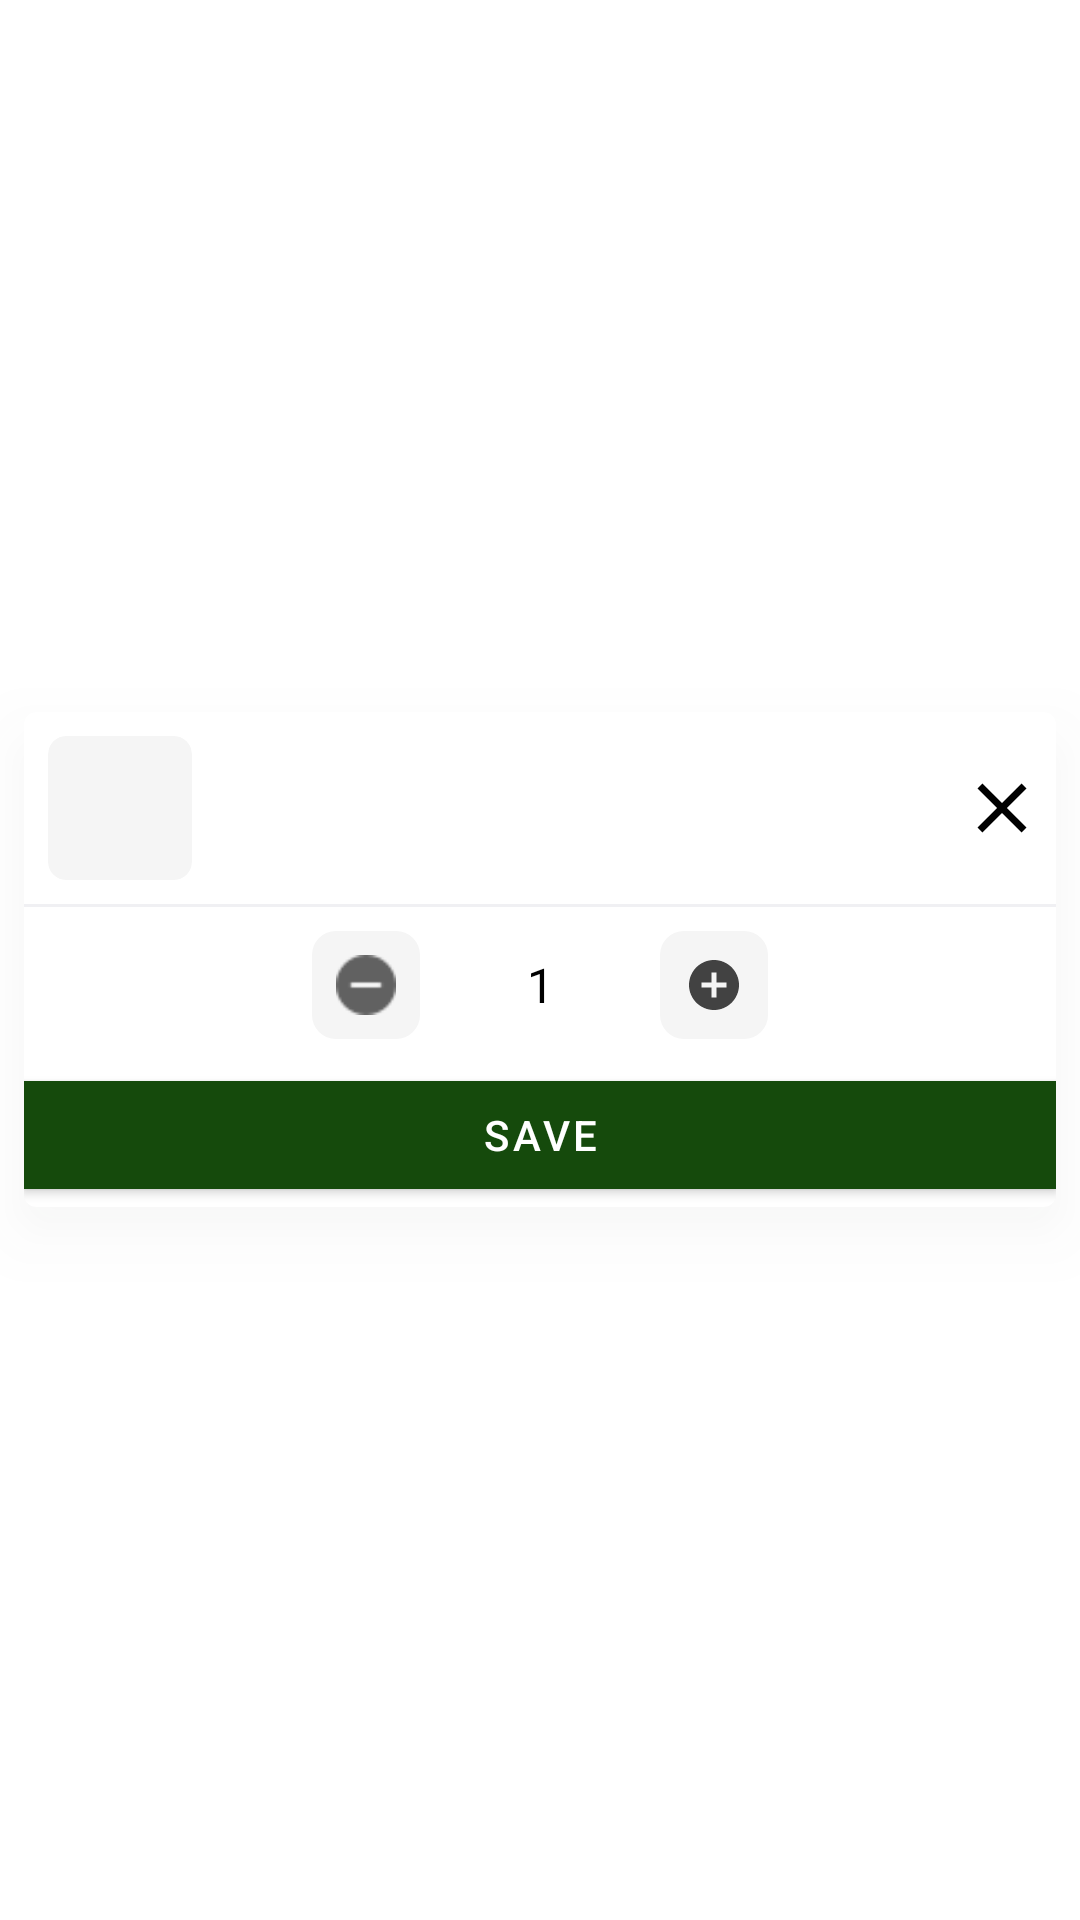

Where icons sit on this 1080px x 1920px app screen, as (x1, y1, x2, y2):
add: (689, 960, 739, 1010)
close: (977, 783, 1027, 833)
minus: (336, 955, 396, 1015)
